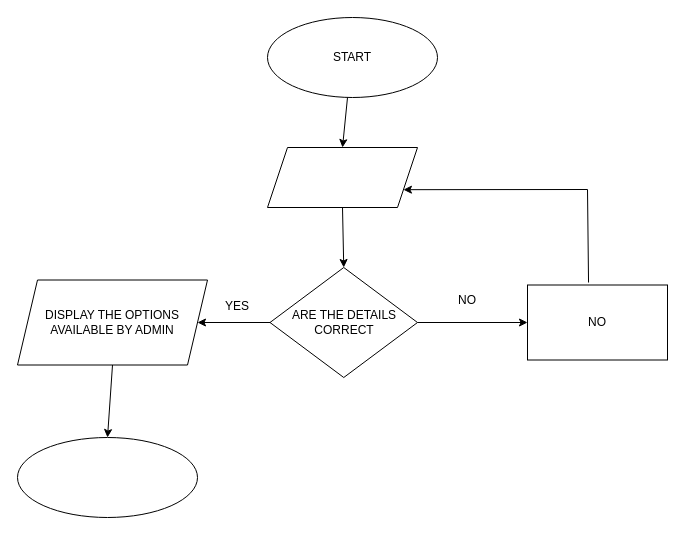
This 685x535 diagram has some shape labels left out. Each missing label, with the centre of its shape:
ENTER THE ADMIN USERNAME AND PASSWORD: point (342, 177)
STOP: point (107, 477)
